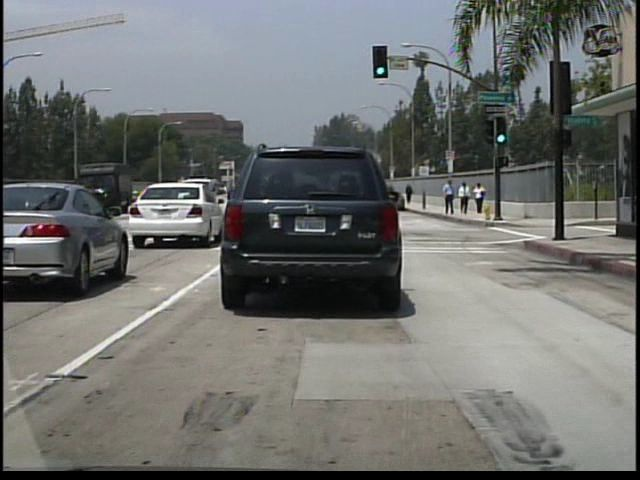person: (443, 178, 457, 217), (457, 182, 471, 217), (474, 181, 487, 215), (405, 183, 415, 205)
